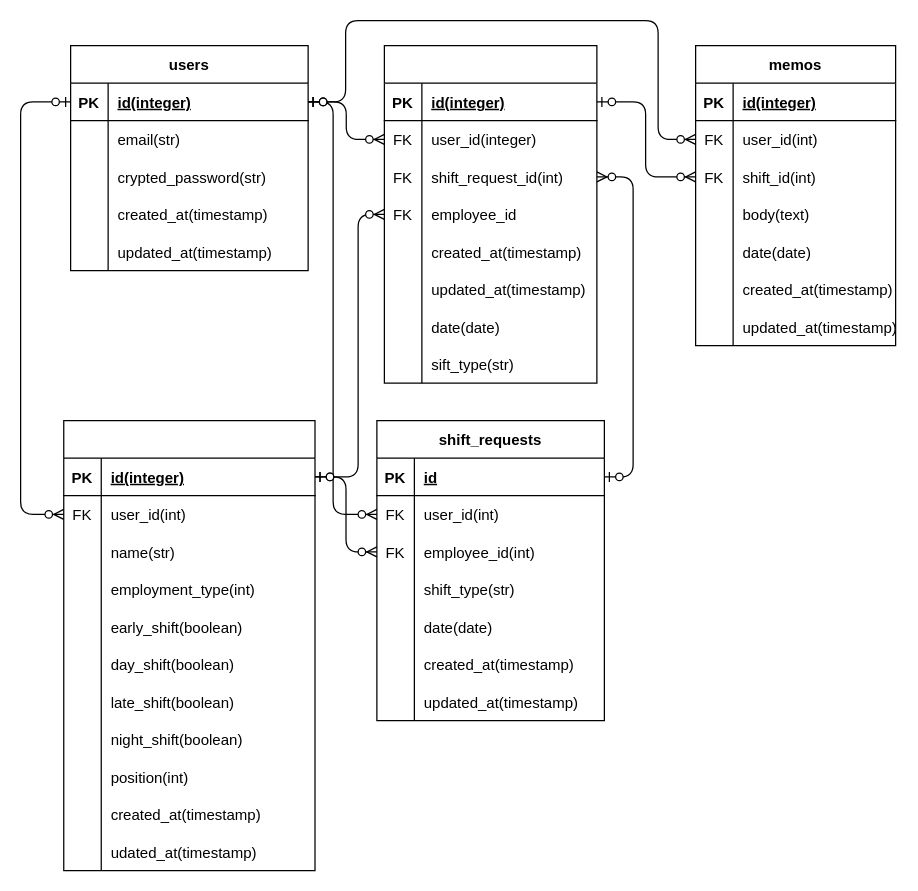
The diagram is 918 pixels wide and 891 high, and some of its shapes have lost their labels. Here are the shapes that lost their labels. From the top down, the box of each, then its label:
(383, 44, 597, 383): shifts
(62, 419, 315, 871): employees
